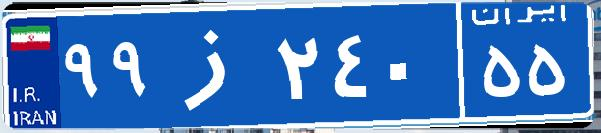0: (385, 28, 445, 110)
2: (273, 28, 330, 110)
4: (330, 28, 385, 110)
5: (475, 38, 525, 113), (525, 38, 570, 115)
9: (57, 26, 110, 107), (110, 28, 158, 105)
ز: (158, 15, 273, 115)
